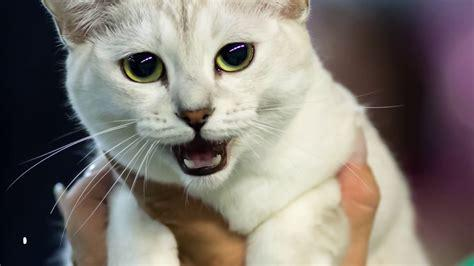cat: (43, 1, 426, 266)
